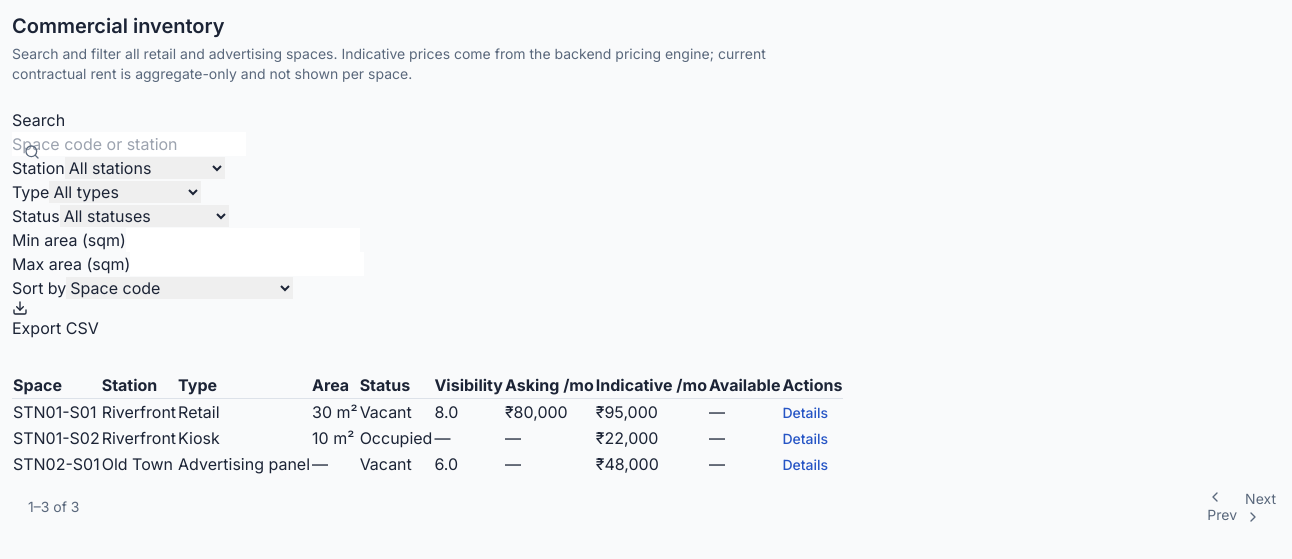
InventoryPage › shows an empty state when no rows match
Expected: the text "STN01-S01" is shown, [12,398,101,425]
Type "ZZZ-nonexistent" into the field labelled "Search" at (129, 144), box [12,132,246,156]
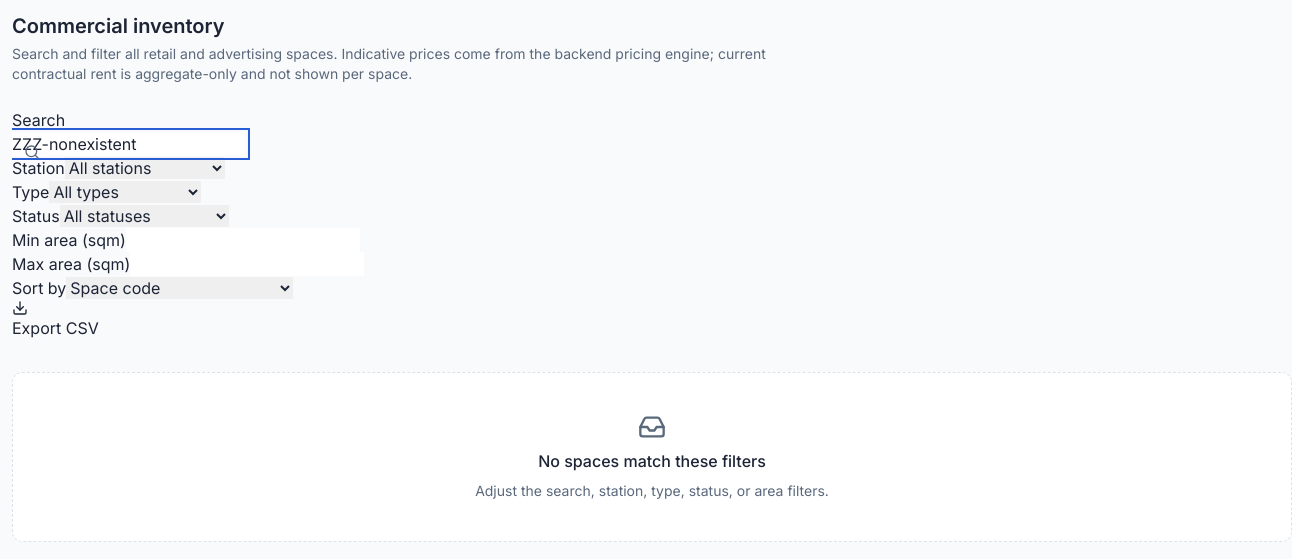
Expected: the text "No spaces match these filters" is shown, [538,449,766,473]
